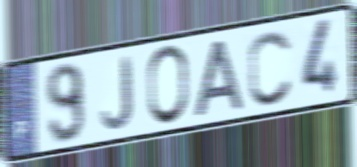4: (298, 14, 344, 102)
9: (43, 59, 88, 147)
A: (191, 36, 248, 121)
C: (246, 27, 295, 109)
J: (99, 53, 135, 132)
O: (146, 42, 192, 129)
